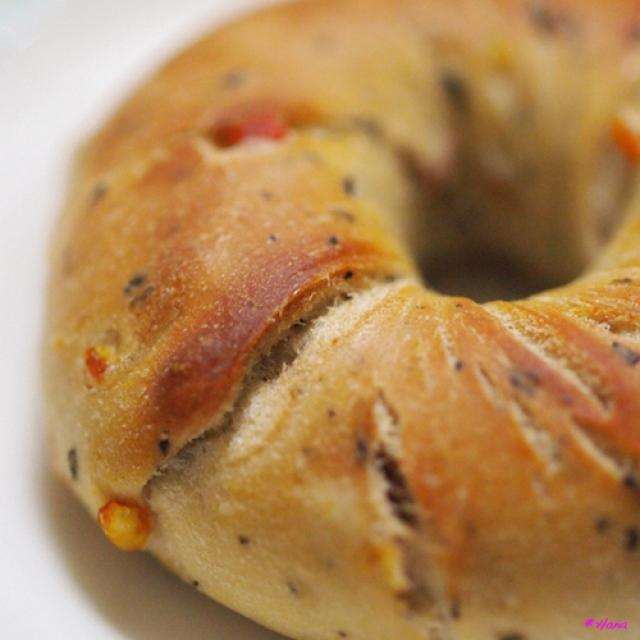面包点心: (18, 5, 631, 629)
